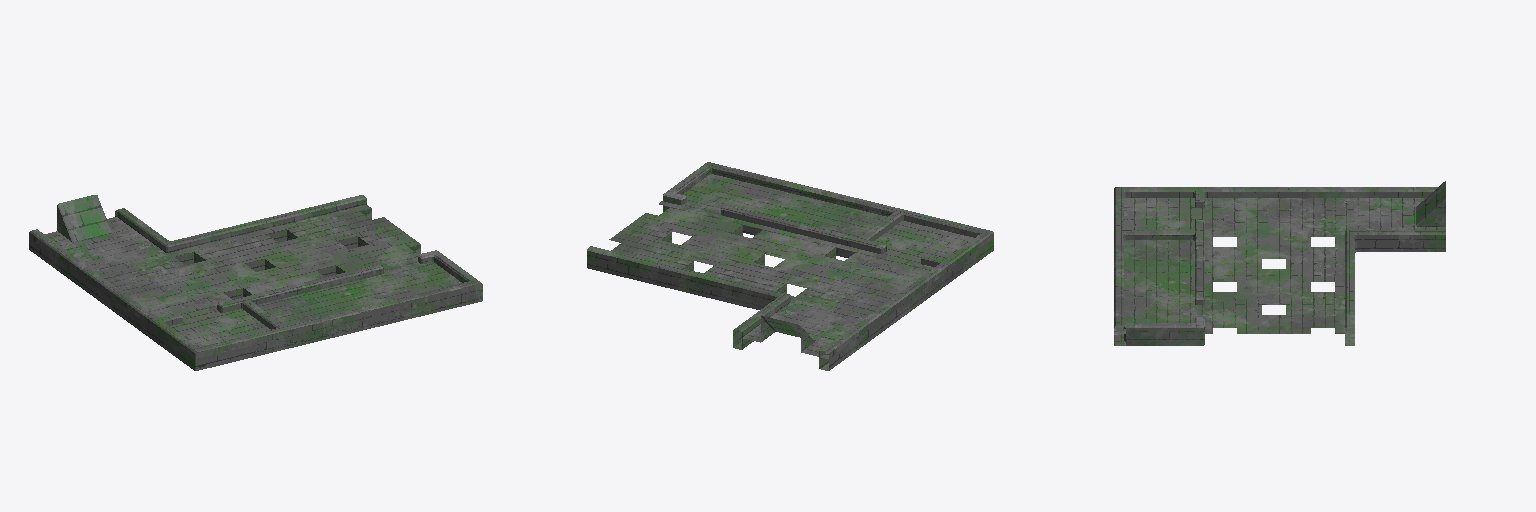
The picture shows the model from 3 angles: view 1: azimuth 30°, elevation 25°; view 2: azimuth 150°, elevation 25°; view 3: azimuth 270°, elevation 25°; orthographic projection.
Visible parts, largest first — view 1: Cube.059, Cube.061, Cube.060; view 2: Cube.059, Cube.061, Cube.060; view 3: Cube.059, Cube.061, Cube.060.
Part boxes in pixels (x1,y1,x2,y2): Cube.059: (29,195,481,370); Cube.061: (29,229,482,367); Cube.060: (115,195,366,252); Cube.059: (609,174,993,370); Cube.061: (663,162,993,370); Cube.060: (587,246,790,349); Cube.059: (1114,181,1445,333); Cube.061: (1114,187,1437,345); Cube.060: (1345,230,1445,345).
Size of the model in its own units: 99 by 13 by 99.
Materials: 2 (2 with a texture image).